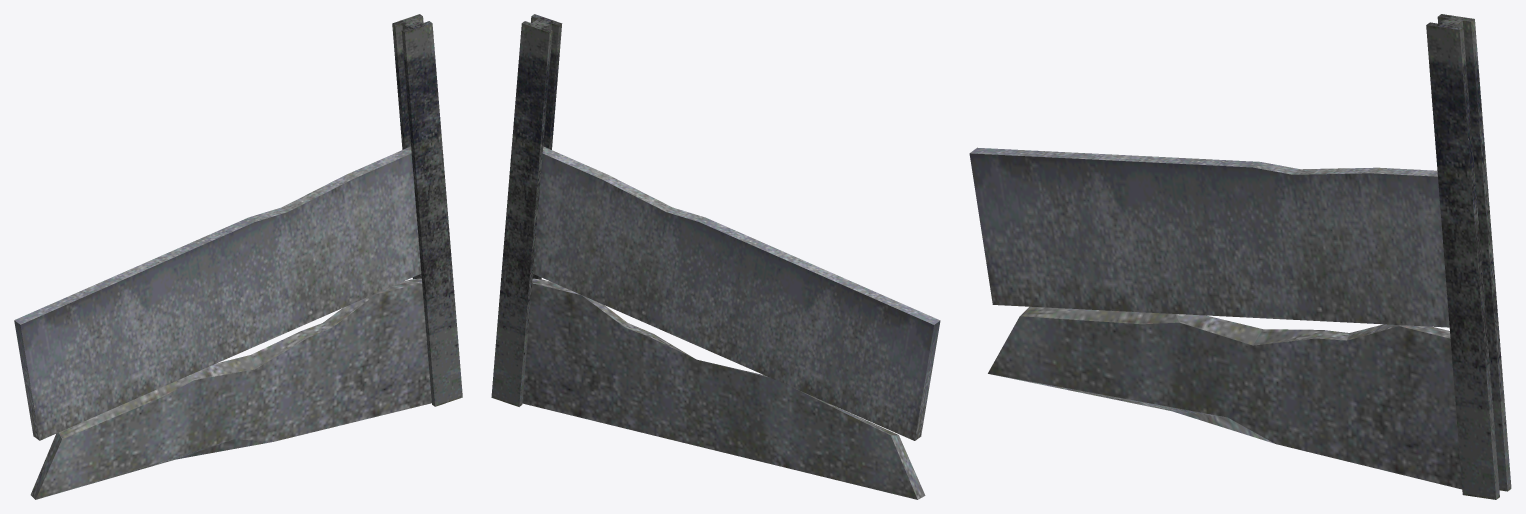
Rendered from plackard_broken_slanted.fbx.
The picture shows the model from 3 angles, left to right: view 1: azimuth 30°, elevation 25°; view 2: azimuth 150°, elevation 25°; view 3: azimuth 330°, elevation 25°; orthographic projection. The views are drawn at different scales.
Visible parts, largest first — view 1: Body; view 2: Body; view 3: Body.
Part boxes in pixels (x1,y1,x2,y2): Body: (14,14,462,499); Body: (491,14,940,499); Body: (969,14,1511,499).
Bounding box in the file's own units: 300 × 251 × 15.
